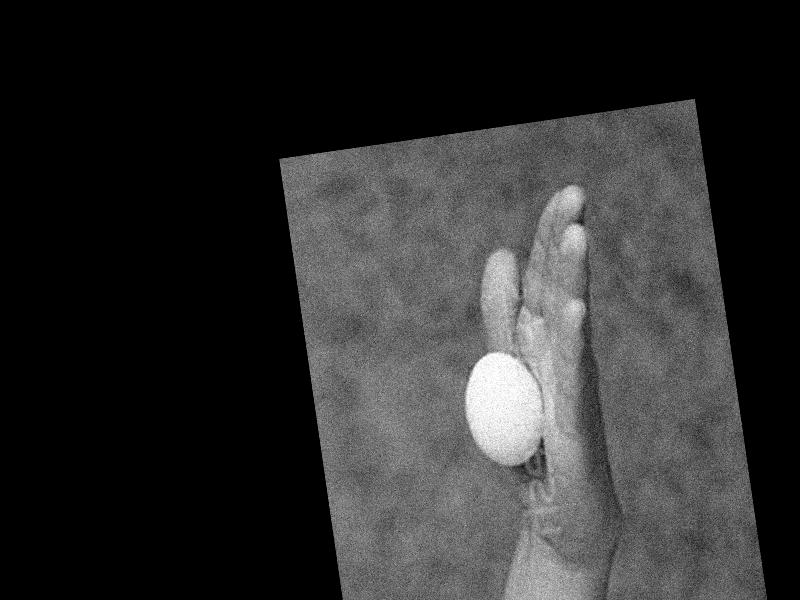Eggs: (455, 347, 550, 472)
